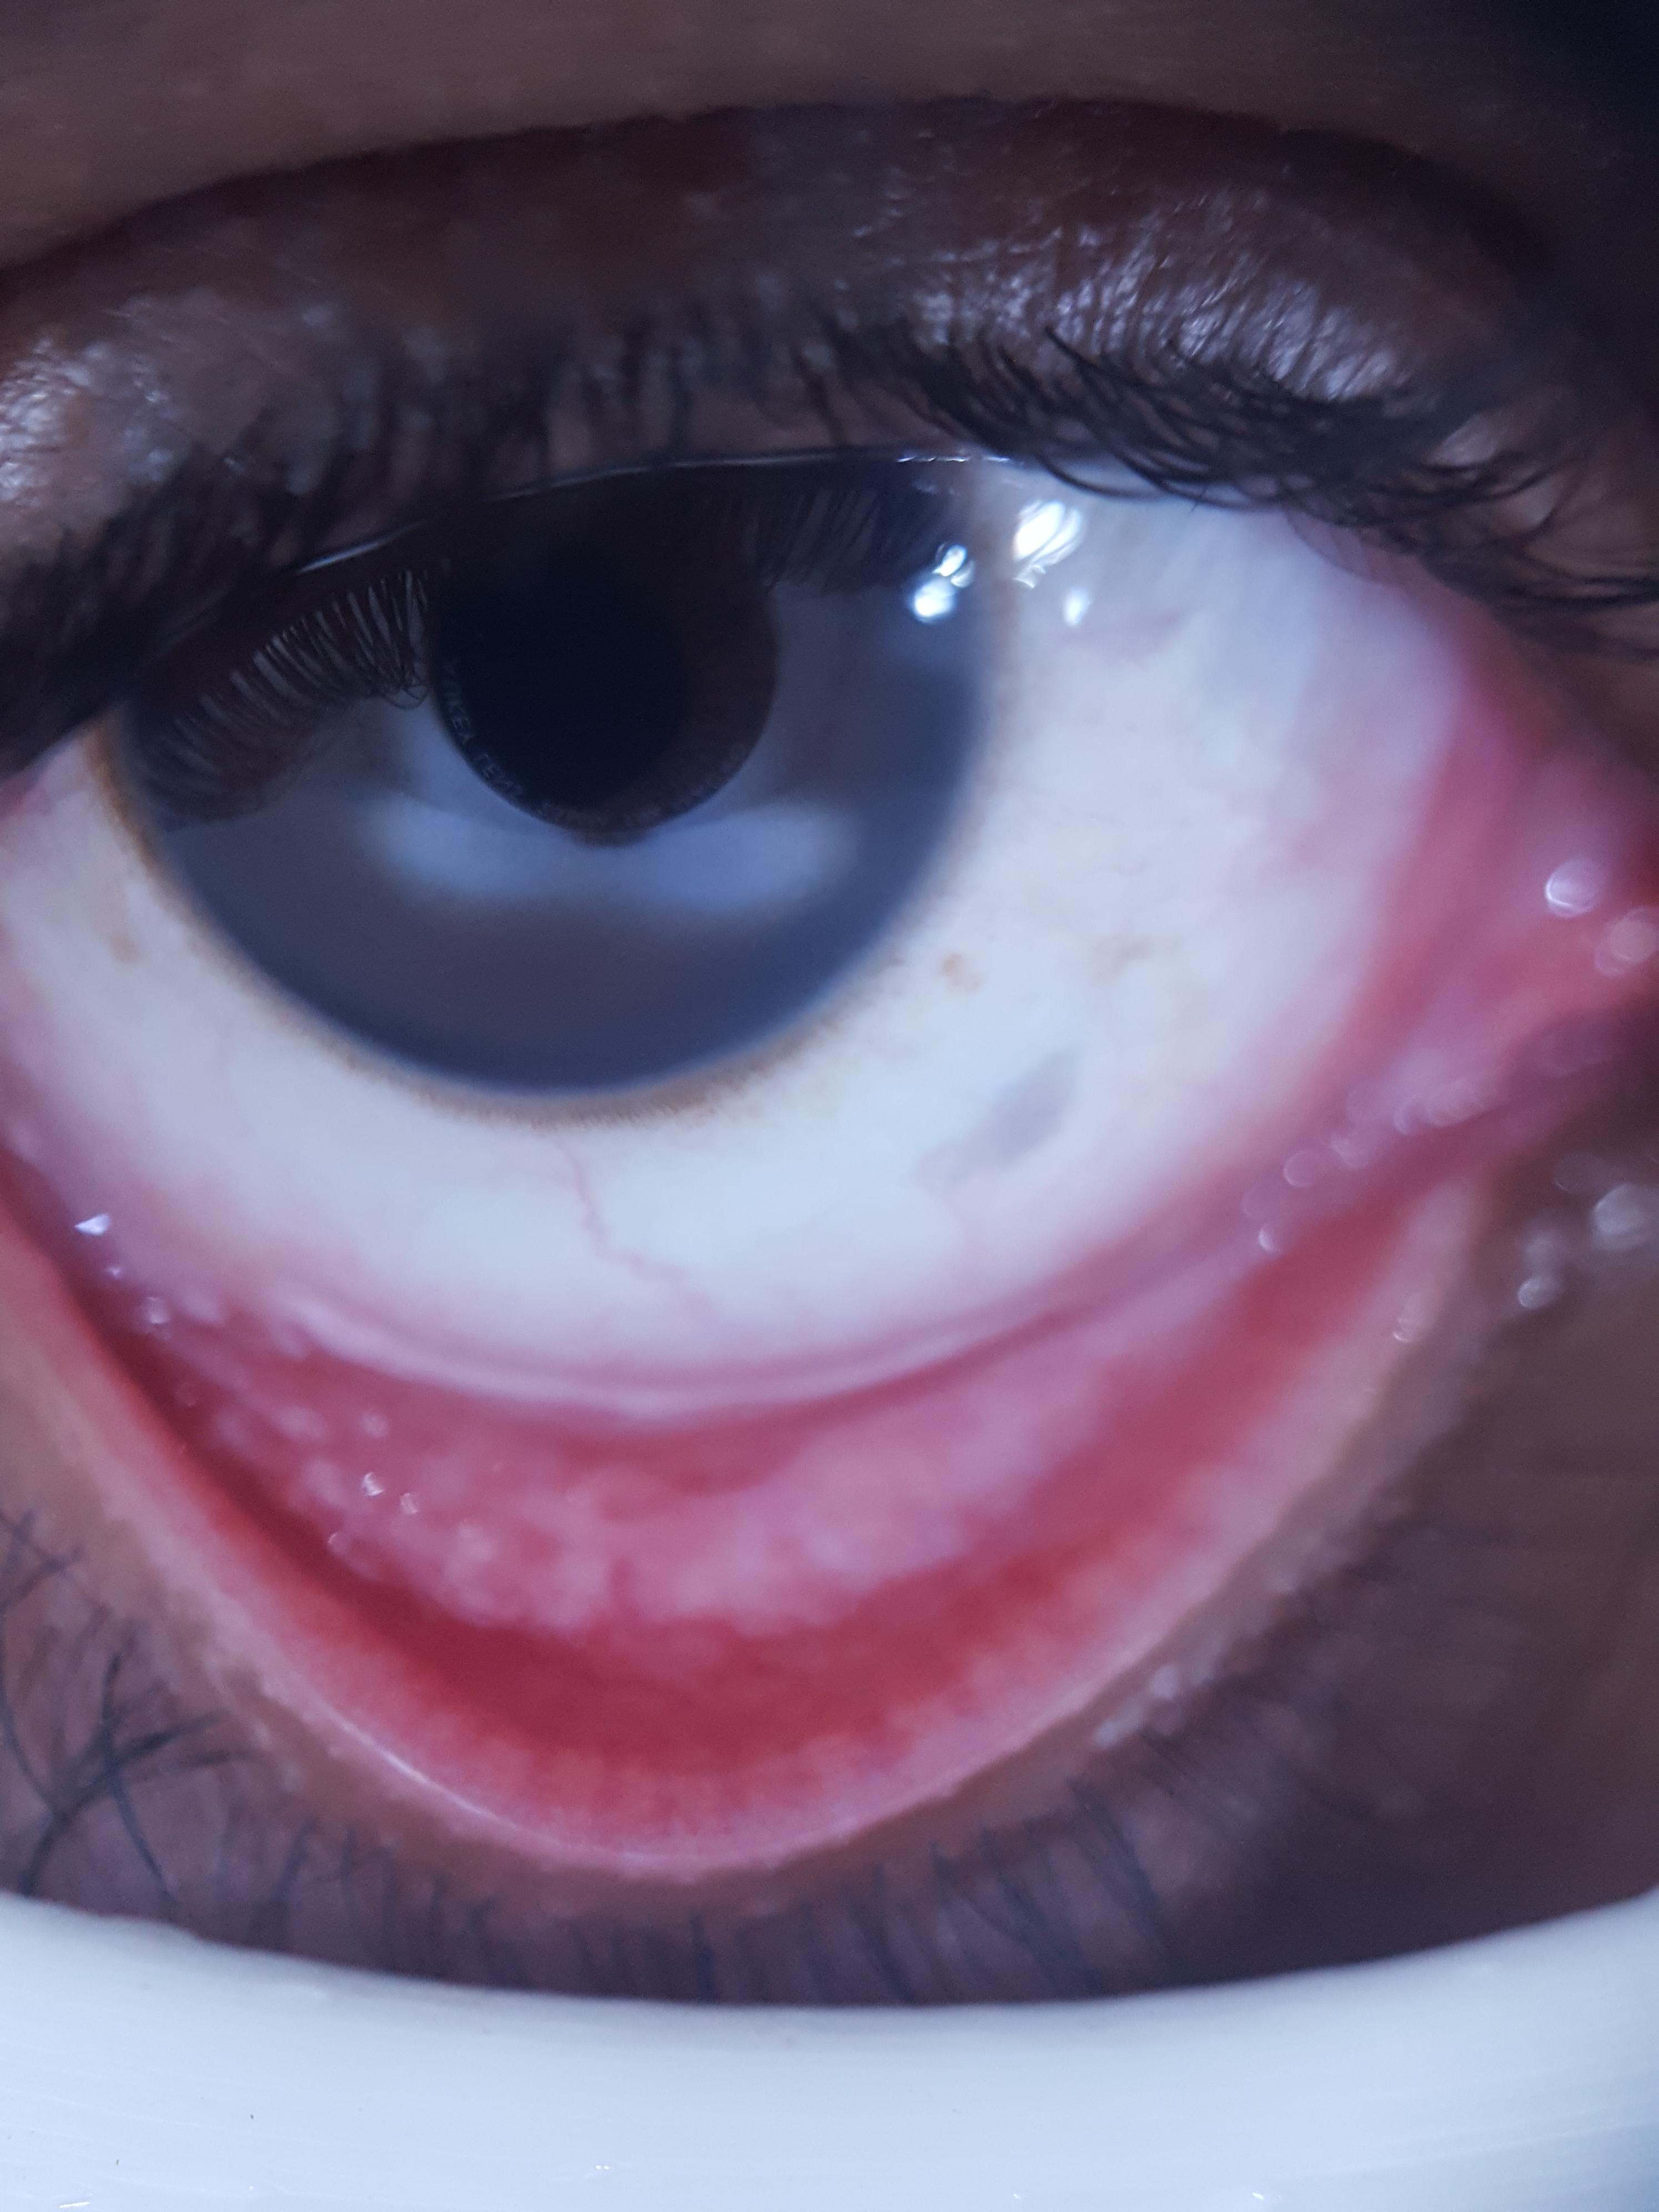forniceal: (37, 1049, 1546, 1639)
forniceal_palpebral: (0, 1038, 1567, 1799)
palpebral: (2, 1090, 1560, 1787)
